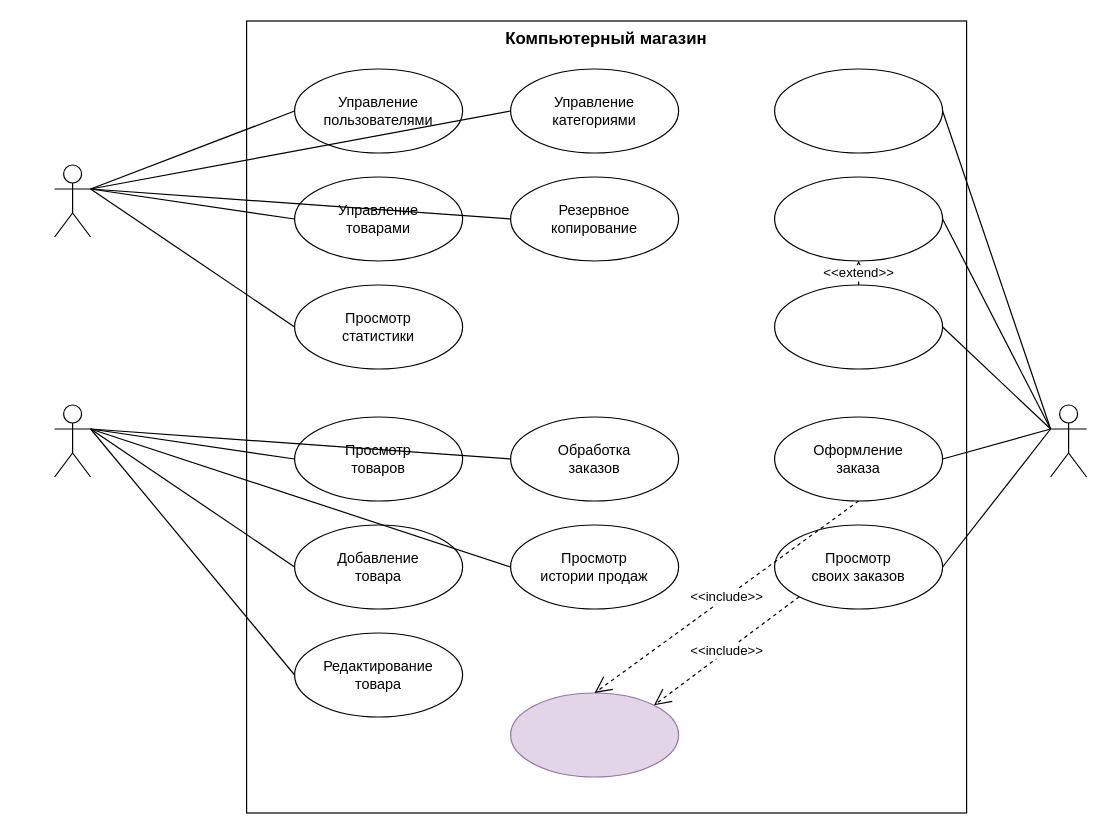
Image size: 1114x834. Some labels were removed from this diagram. Each missing label, with the box of its shape:
Авторизация: (509, 692, 679, 777)
Администратор: (53, 164, 91, 237)
Клиент: (1049, 404, 1087, 477)
Поиск товаров: (773, 284, 943, 369)
Продавец: (53, 404, 91, 477)
Просмотр каталога: (773, 176, 943, 261)
Регистрация: (773, 68, 943, 153)
